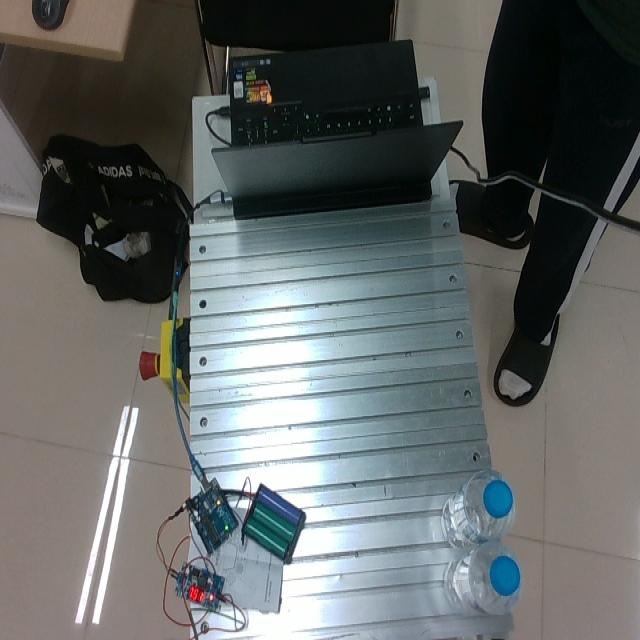lavie: (443, 538, 522, 614), (443, 472, 514, 547)
